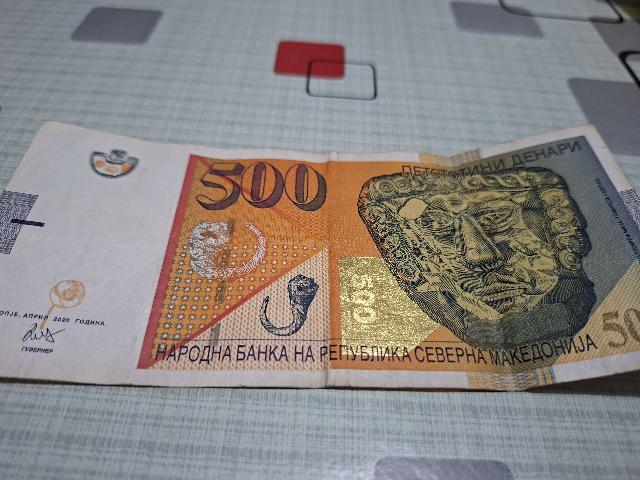note: (0, 123, 639, 389)
